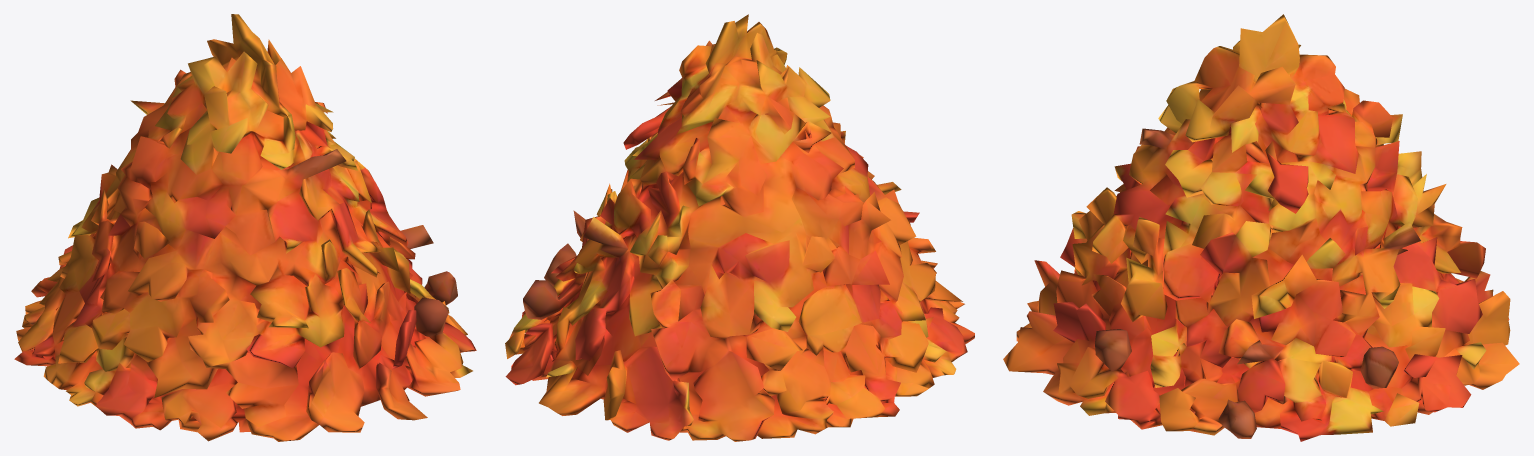
The model's file is leaf_pile.glb.
3 views of the same model, side by side, from view 1: azimuth 30°, elevation 25°; view 2: azimuth 150°, elevation 25°; view 3: azimuth 270°, elevation 25° (orthographic).
Parts seen in each view (by area): view 1: tripo_node_51b75459-a2ff-4869-bac9-a83dc7b97661; view 2: tripo_node_51b75459-a2ff-4869-bac9-a83dc7b97661; view 3: tripo_node_51b75459-a2ff-4869-bac9-a83dc7b97661.
Part boxes in pixels (x1,y1,x2,y2): tripo_node_51b75459-a2ff-4869-bac9-a83dc7b97661: [14, 14, 476, 441]; tripo_node_51b75459-a2ff-4869-bac9-a83dc7b97661: [505, 14, 974, 441]; tripo_node_51b75459-a2ff-4869-bac9-a83dc7b97661: [1003, 14, 1519, 441].
Bounding box in the file's own units: 0.3773 × 0.3 × 0.4237.
1 material, 1 textured.
